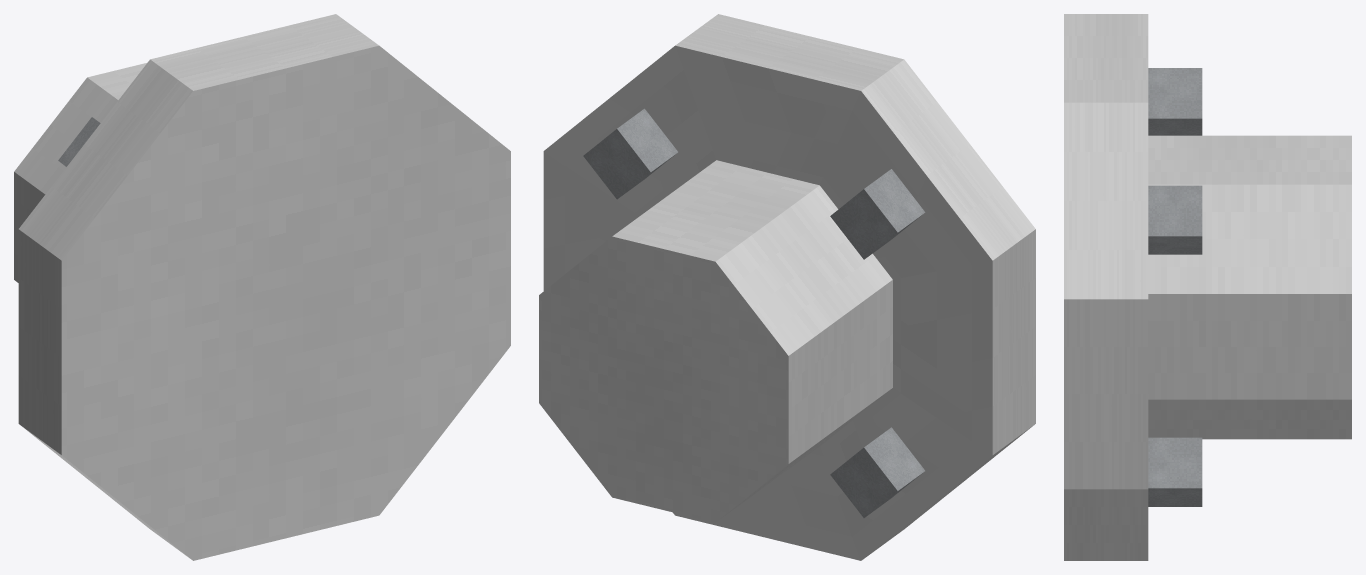
File: lp_turbine_drain_south.obj
3 views of the same model, side by side, from view 1: azimuth 30°, elevation 25°; view 2: azimuth 150°, elevation 25°; view 3: azimuth 270°, elevation 25° (orthographic). The views are drawn at different scales.
Size of the model in its own units: 0.5625 by 0.5625 by 0.32.
